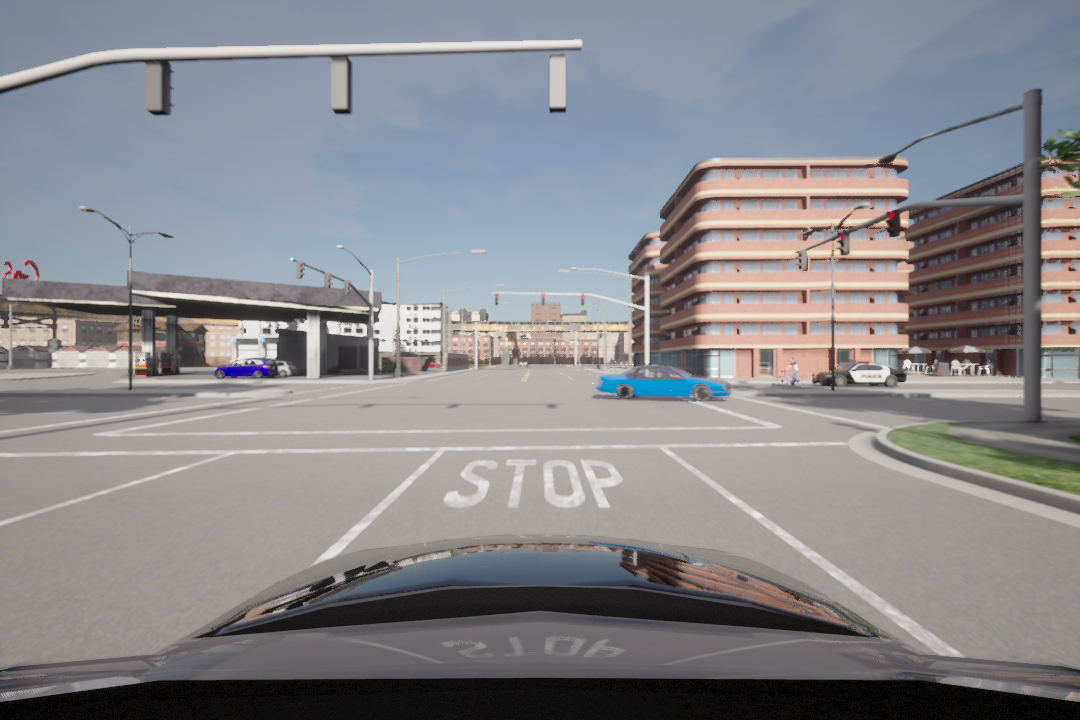TrafficLight: (887, 207, 900, 241), (795, 249, 811, 273), (837, 228, 848, 257), (294, 259, 305, 277), (323, 272, 333, 290), (342, 280, 352, 297), (537, 291, 546, 305), (579, 294, 587, 306), (493, 292, 499, 307)
